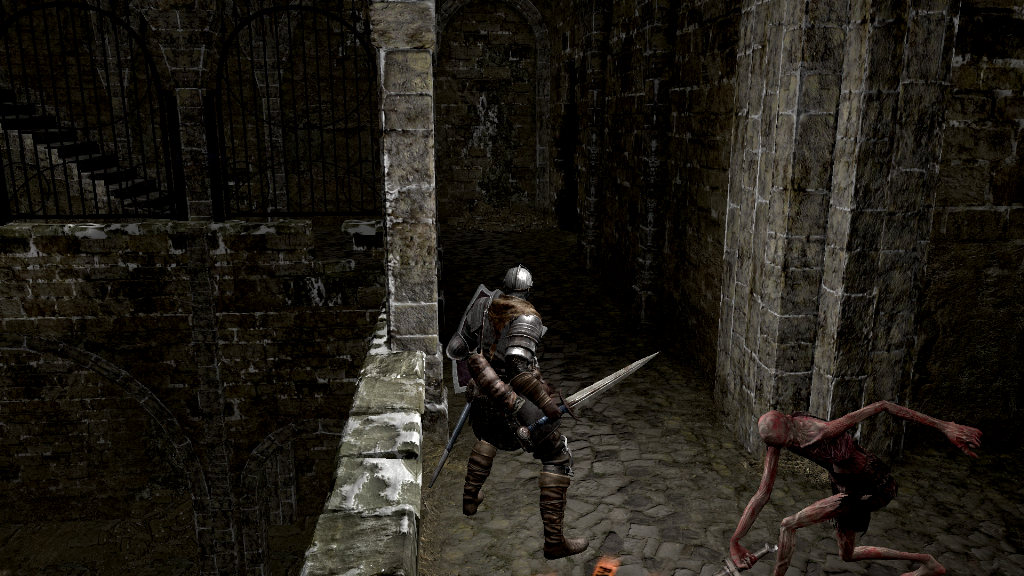hollow: (730, 400, 983, 576)
player: (444, 265, 663, 560)
